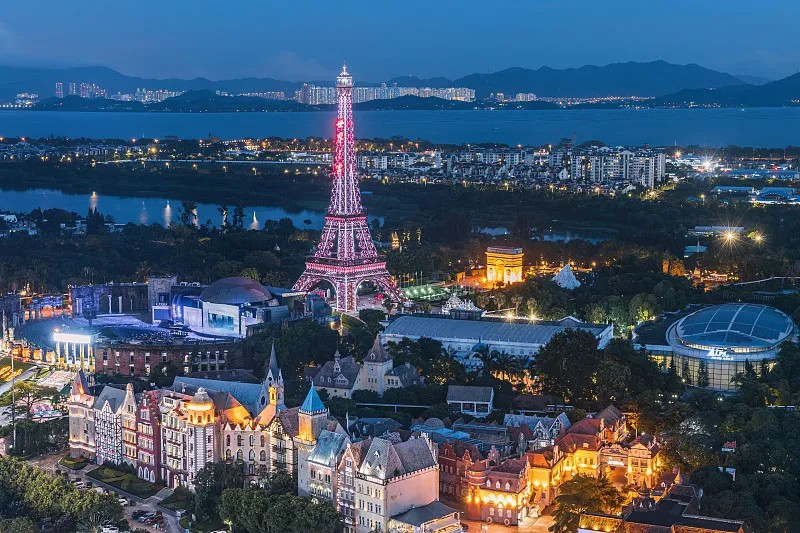Eiffel: (290, 61, 404, 315)
